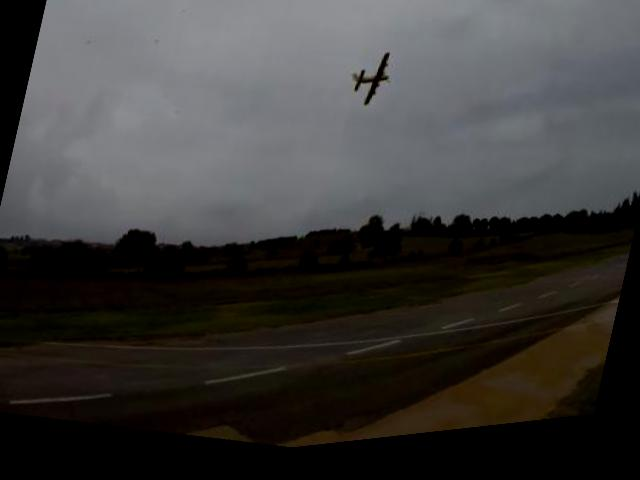uav: (342, 47, 397, 129)
